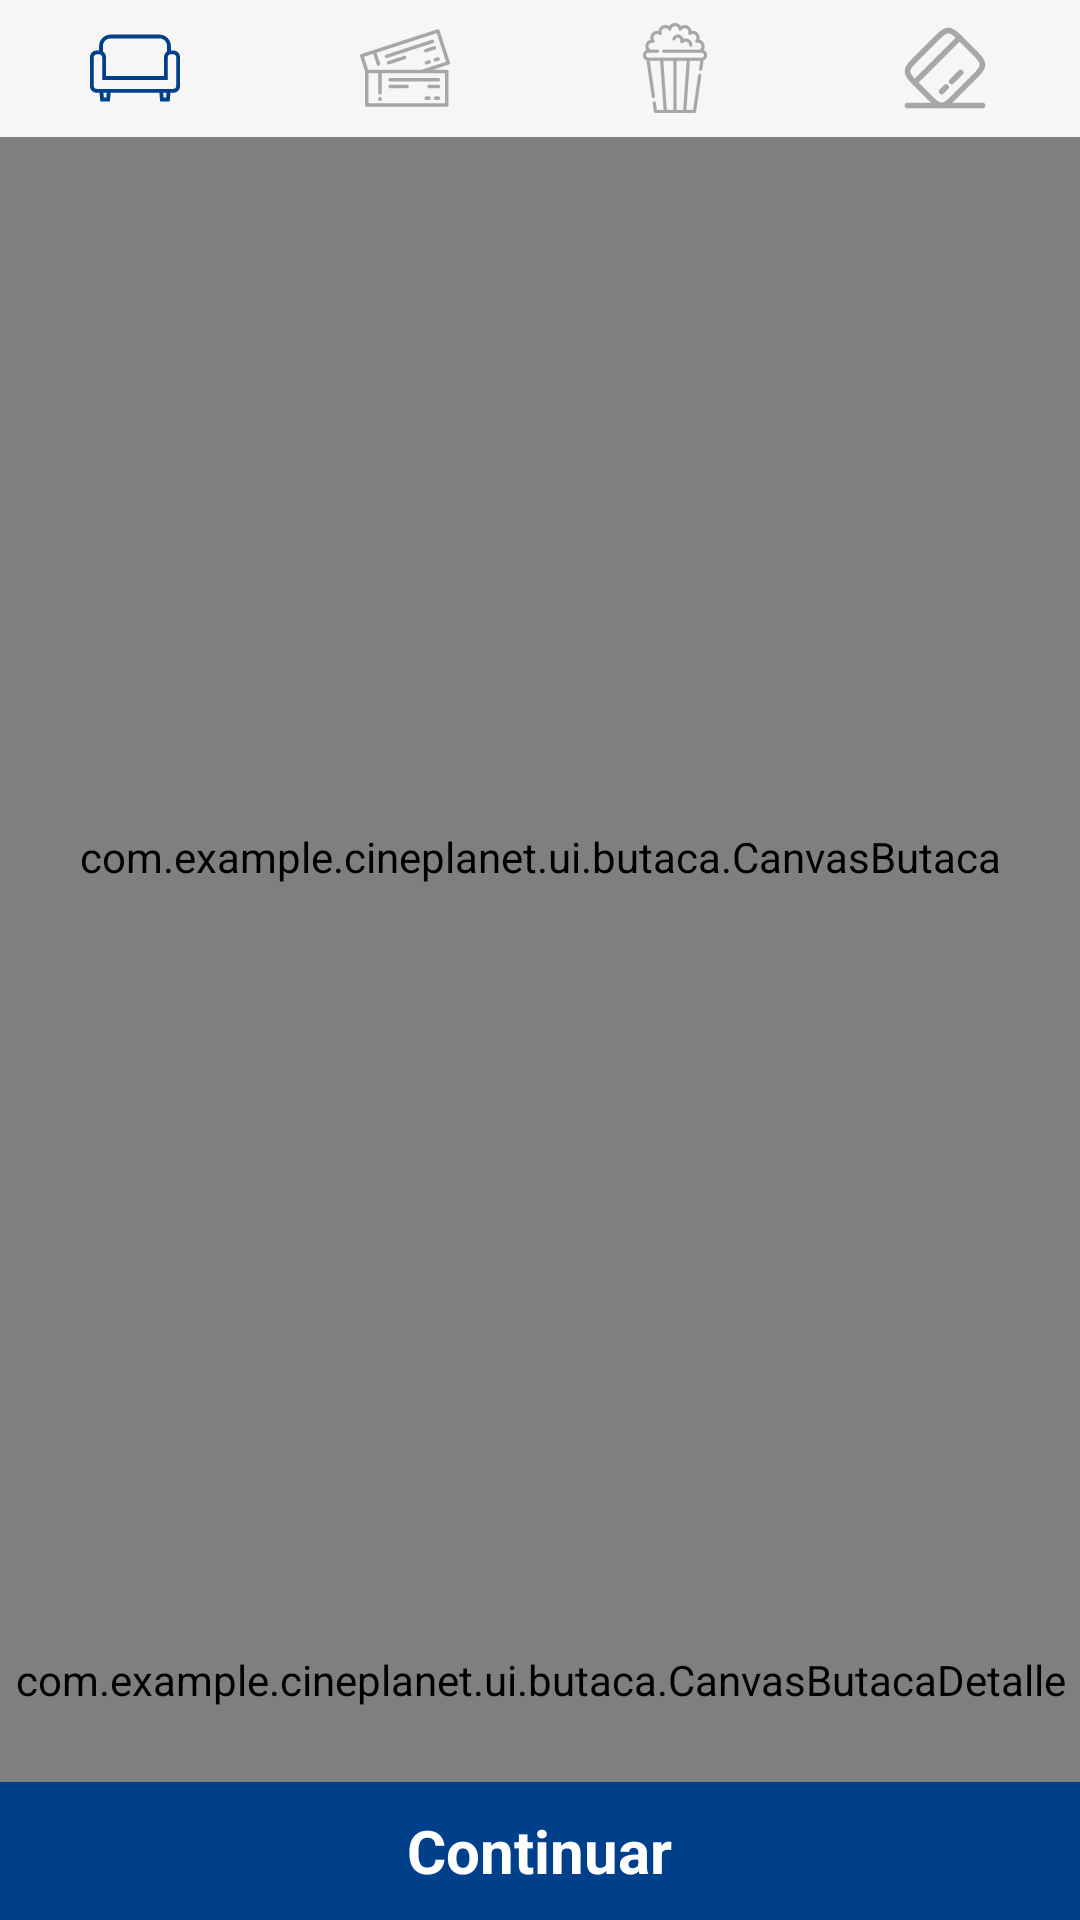

Named icons in this screenshot (1080x1920) and their centers, (x,y):
card: (945,68)
popcorn: (675,68)
sofa: (135,68)
tikctes: (405,68)
